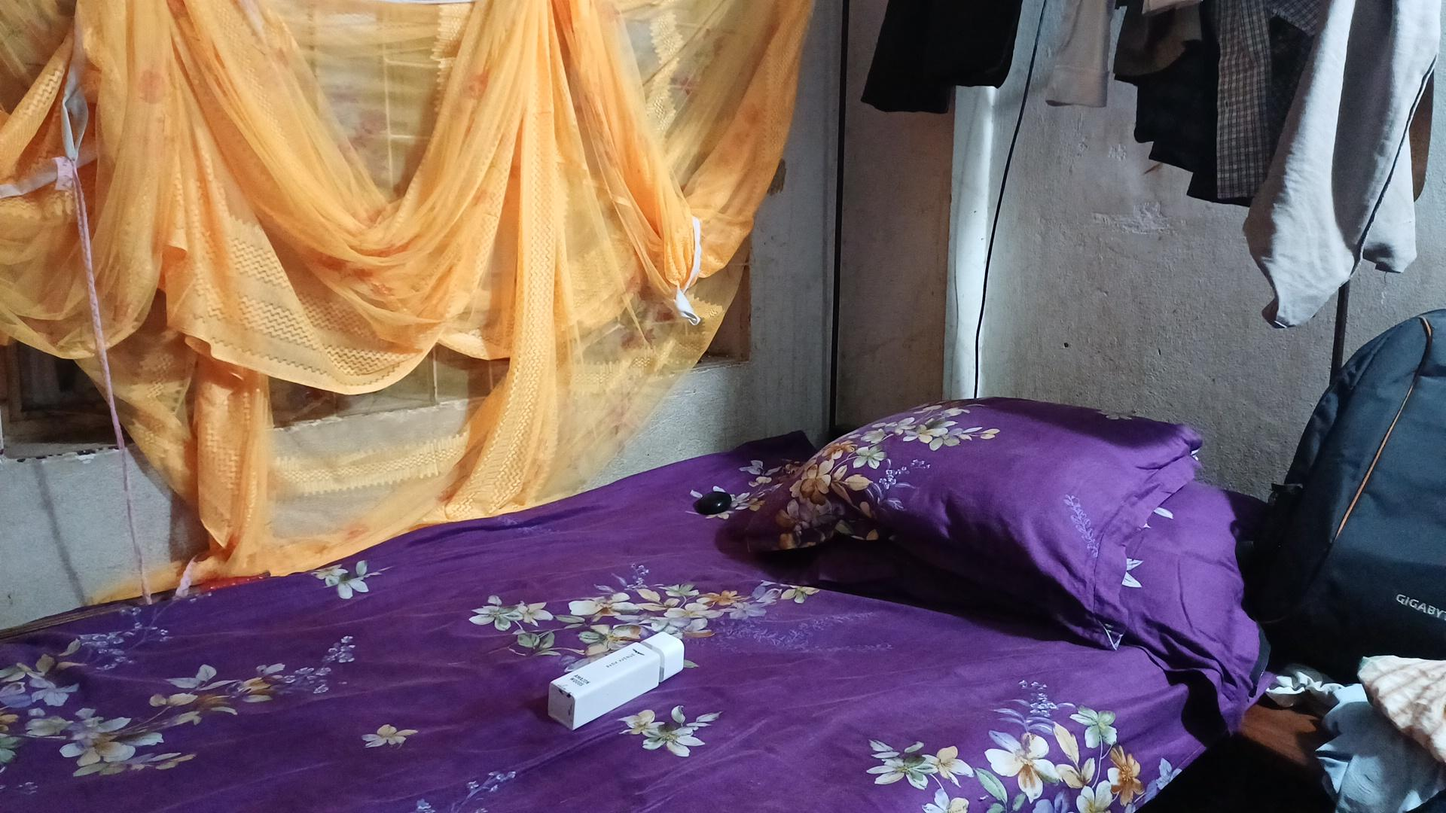Bag: (1255, 239, 1442, 637)
Bottle: (529, 606, 710, 739)
Pillow: (754, 343, 1172, 659)
